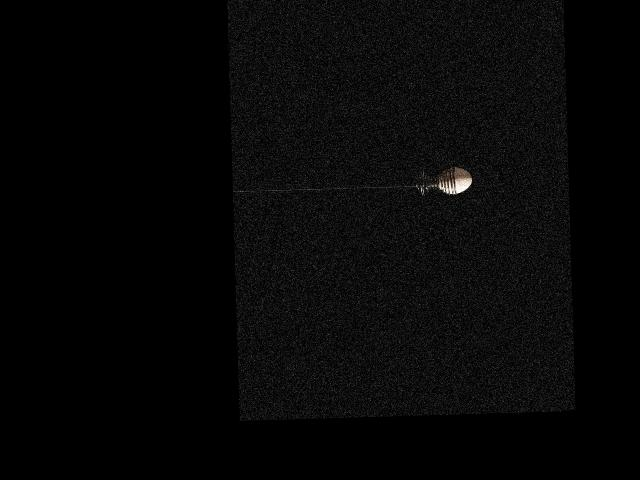egg: (437, 167, 472, 195)
